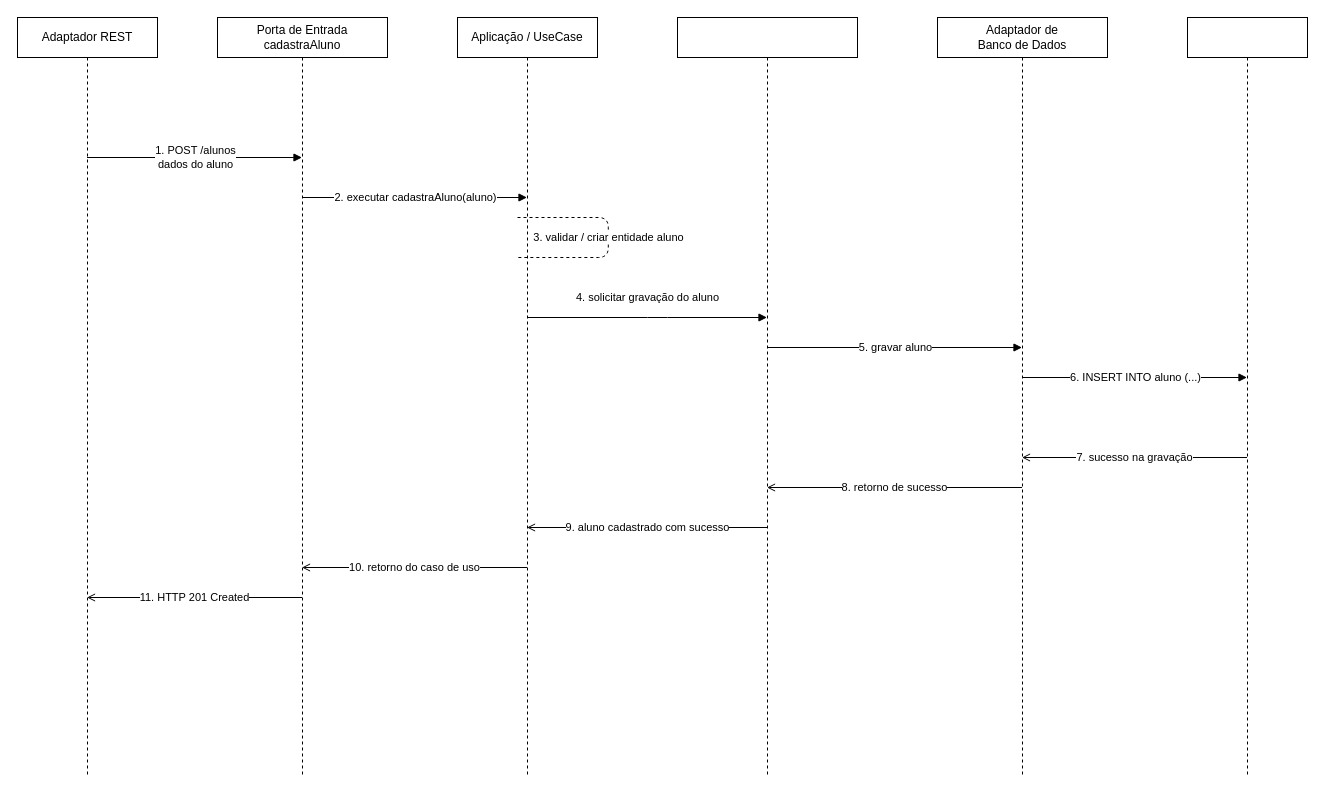
This 1325x795 diagram has some shape labels left out. The box of each missing label's shape, as (x1, y1, x2, y2) in pixels:
MySQL: (1186, 16, 1308, 778)
Porta de Saída Gravação de Dado: (676, 16, 858, 778)
